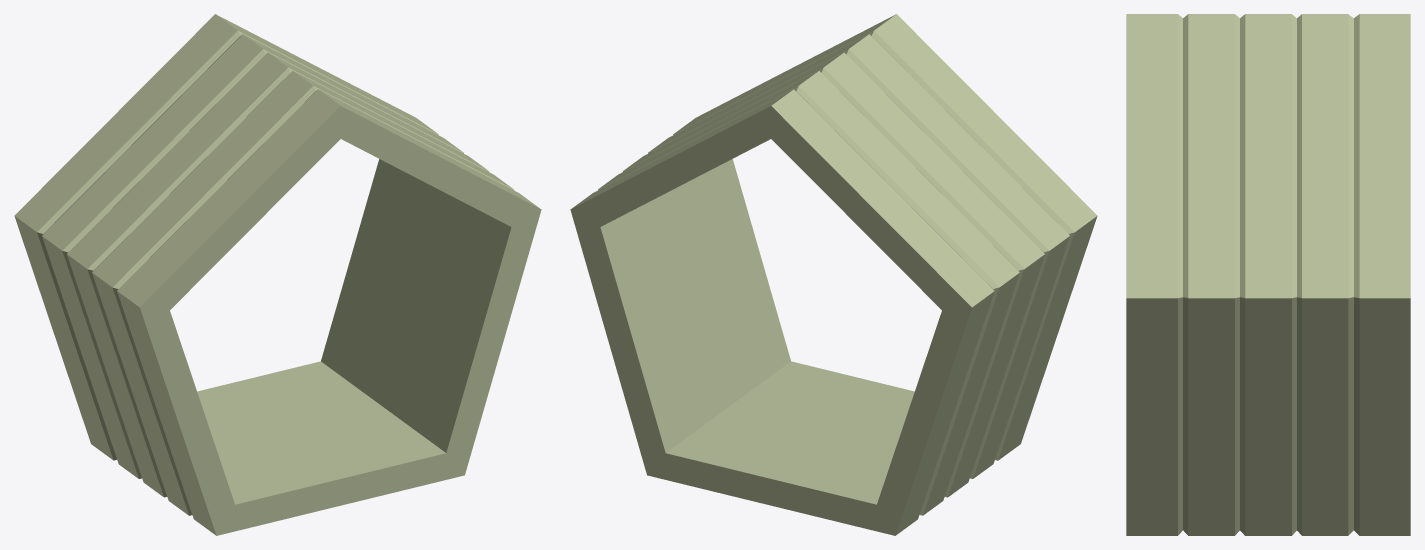
The model's file is Shelf_4.fbx.
3 renders of one model, left to right at view 1: azimuth 30°, elevation 25°; view 2: azimuth 150°, elevation 25°; view 3: azimuth 270°, elevation 25°, orthographic. The views are drawn at different scales.
Visible parts, largest first — view 1: Shelf_4; view 2: Shelf_4; view 3: Shelf_4.
Part boxes in pixels (x1,y1,x2,y2): Shelf_4: (14,14,541,535); Shelf_4: (570,14,1097,535); Shelf_4: (1126,14,1410,535).
Size of the model in its own units: 117 by 63.17 by 111.
